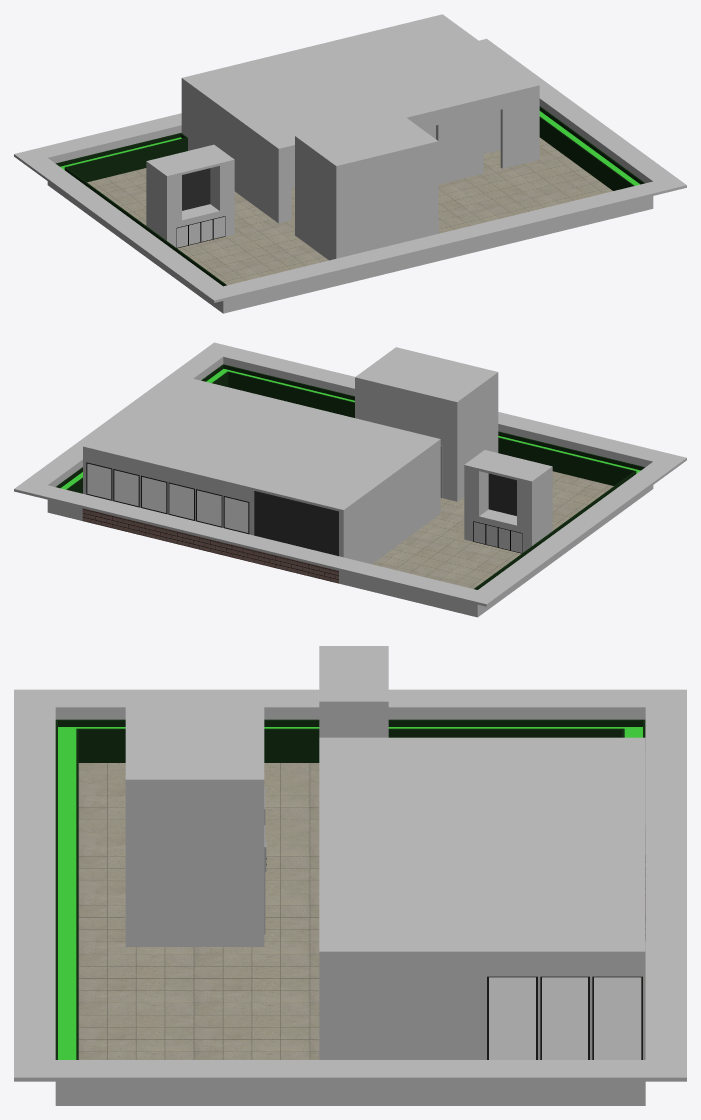
The model's file is MSH_Amenidades_Piso_13.FBX.
The picture shows the model from 3 angles, top to bottom: view 1: azimuth 30°, elevation 25°; view 2: azimuth 150°, elevation 25°; view 3: azimuth 270°, elevation 25°; orthographic projection. The views are drawn at different scales.
Visible parts, largest first — view 1: MSH_Amenidades_Piso_13; view 2: MSH_Amenidades_Piso_13; view 3: MSH_Amenidades_Piso_13.
Boxes of the visible parts, x1,y1,x2,y2 form: MSH_Amenidades_Piso_13: (14,14,686,313); MSH_Amenidades_Piso_13: (14,342,686,617); MSH_Amenidades_Piso_13: (14,646,686,1105).
Bounding box in the file's own units: 1988 × 410 × 1458.
